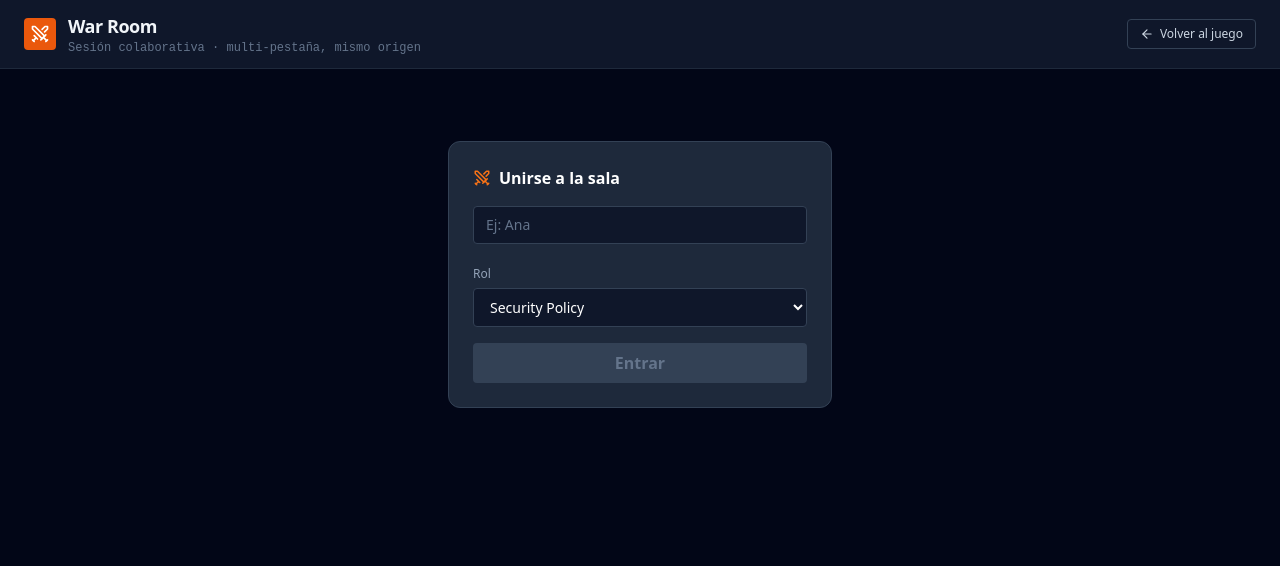
Test case: WarRoom — controles del instructor › pausar muestra el banner y congela los selects
This screenshot has width=1280, height=566.
In the field named "tu nombre": (640, 225) x1=473 y1=206 x2=807 y2=244, type "Inst"
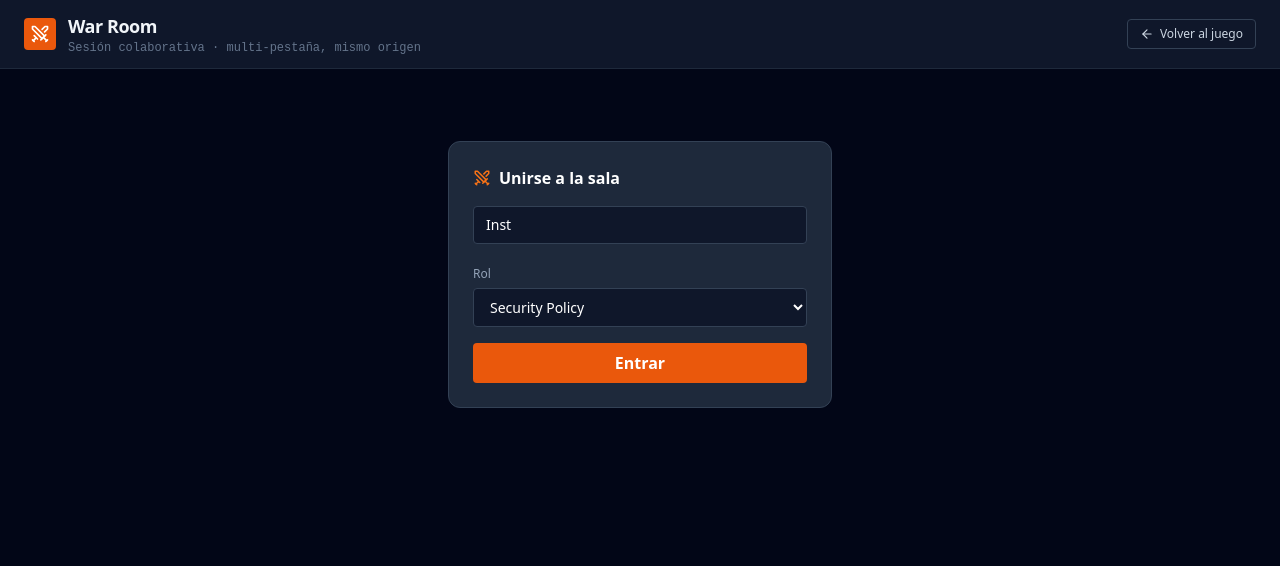
Select "Instructor" in the dropdown named "rol": (640, 308) x1=473 y1=288 x2=807 y2=327
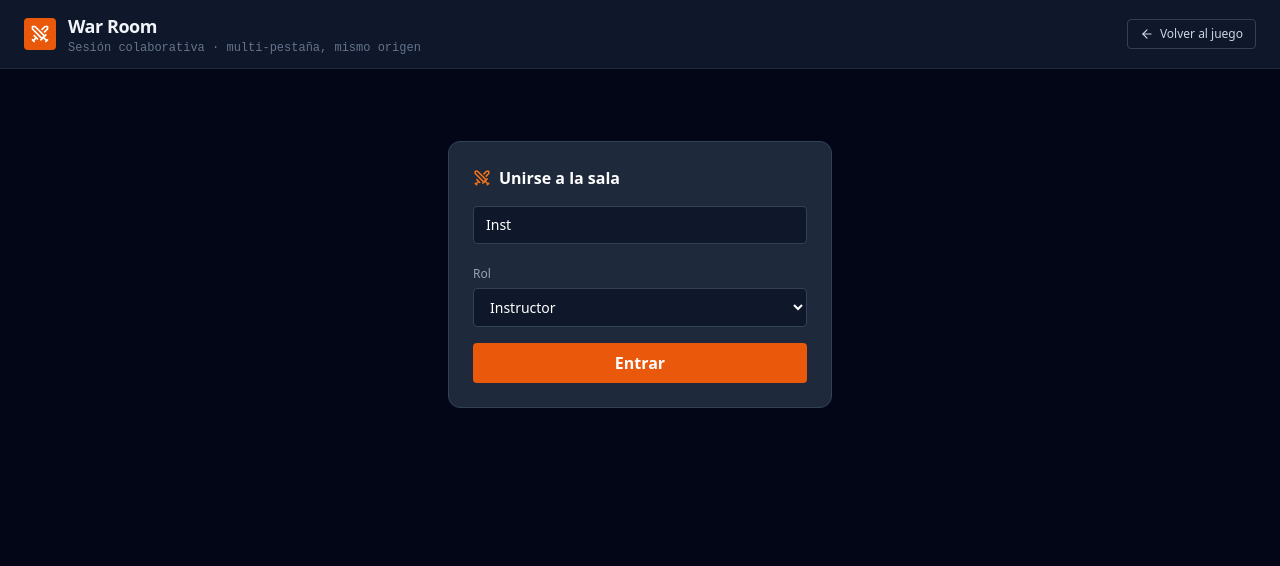
Click the button "Entrar": click(640, 363) x1=473 y1=343 x2=807 y2=383
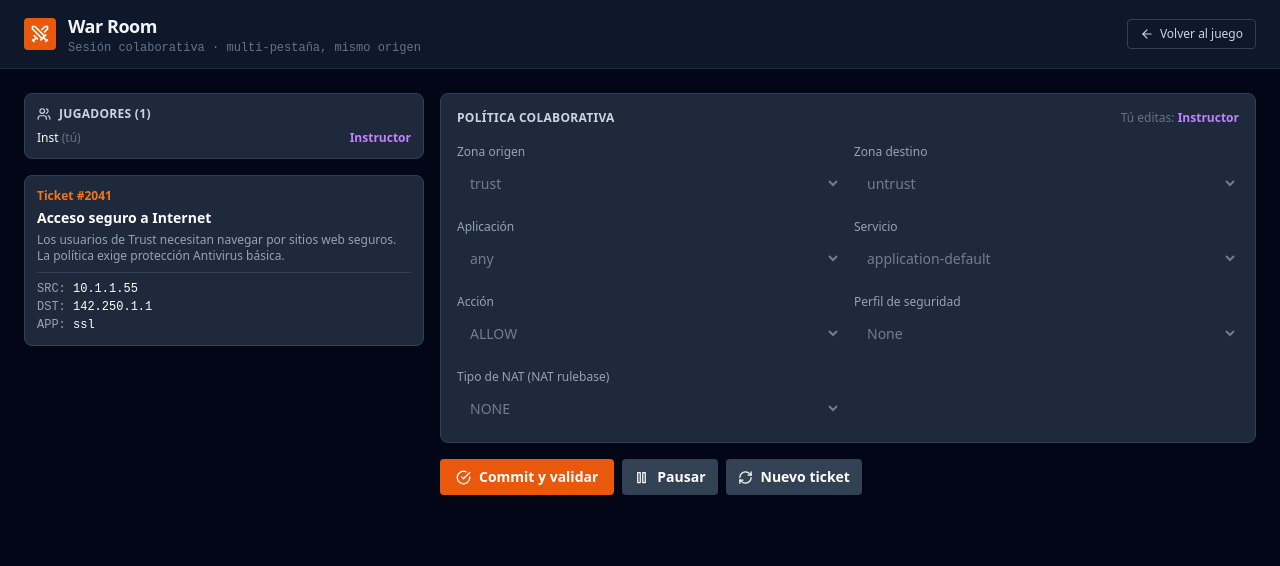
Click the button "Pausar": click(670, 477) x1=622 y1=459 x2=718 y2=495
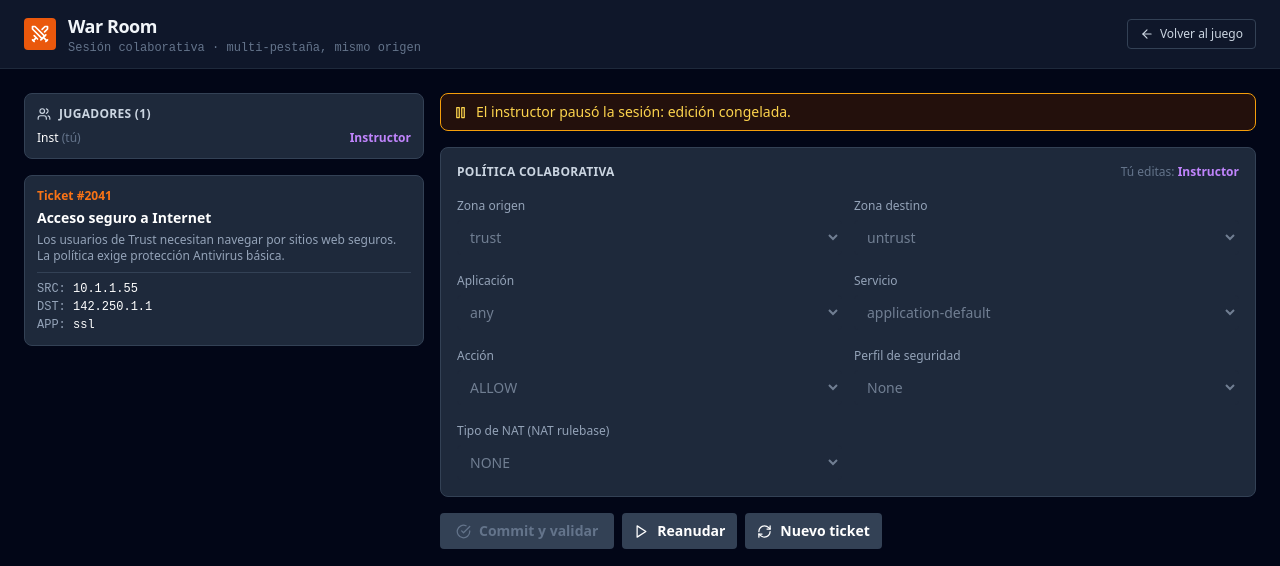
Expected: the message shows "pausó la sesión", x1=476 y1=102 x2=791 y2=121
